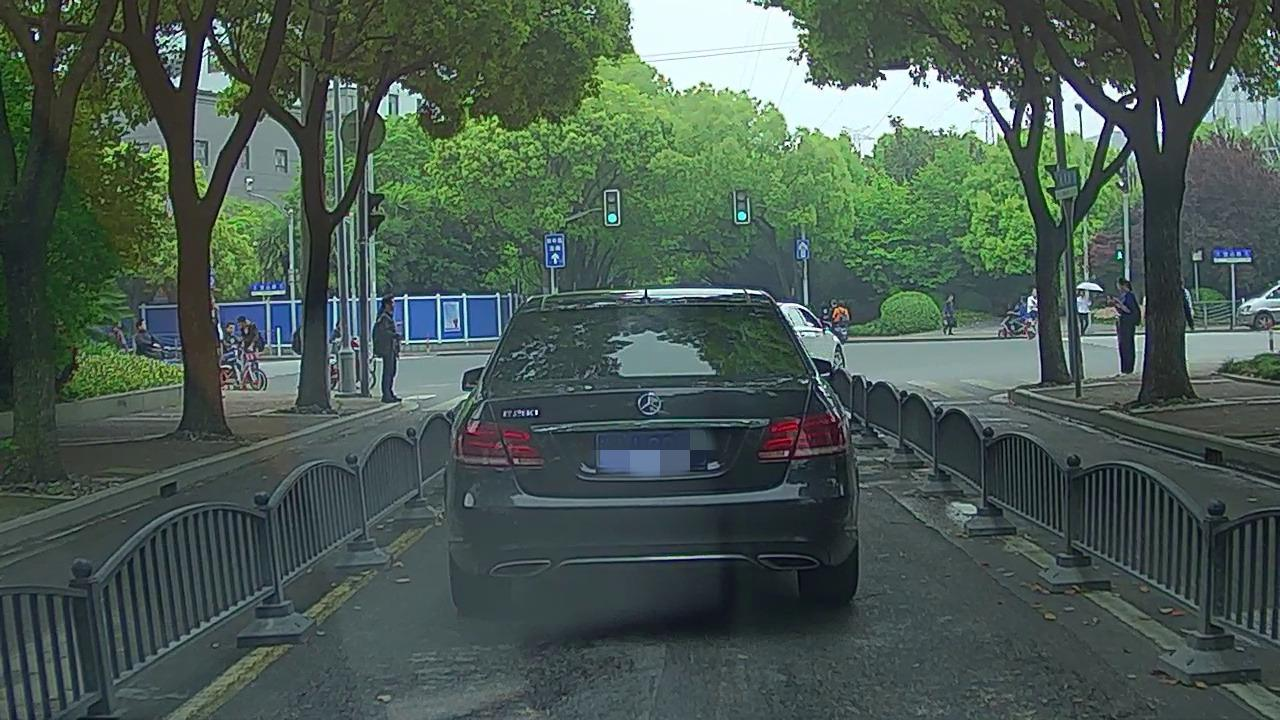traffic_light: (605, 192, 619, 225), (735, 190, 748, 222)
